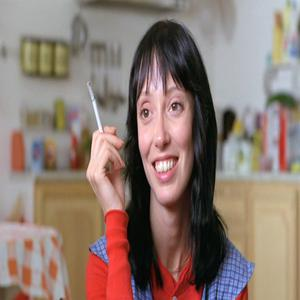cigarette: (86, 81, 109, 140)
